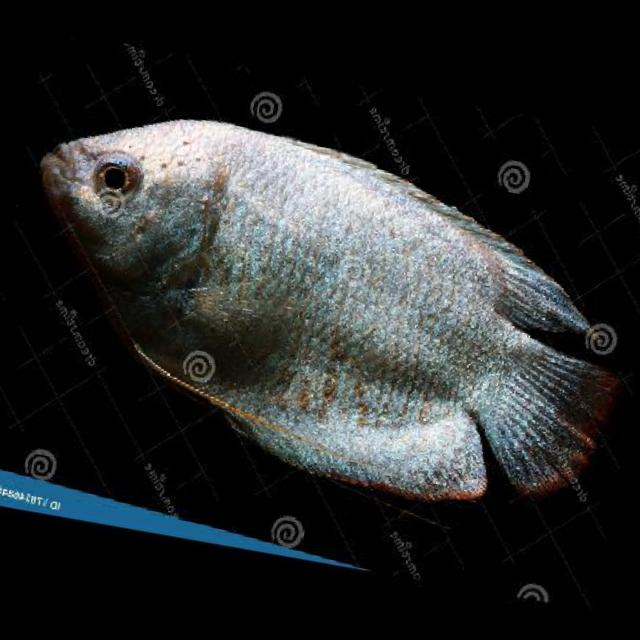Gourami: (0, 89, 640, 531)
